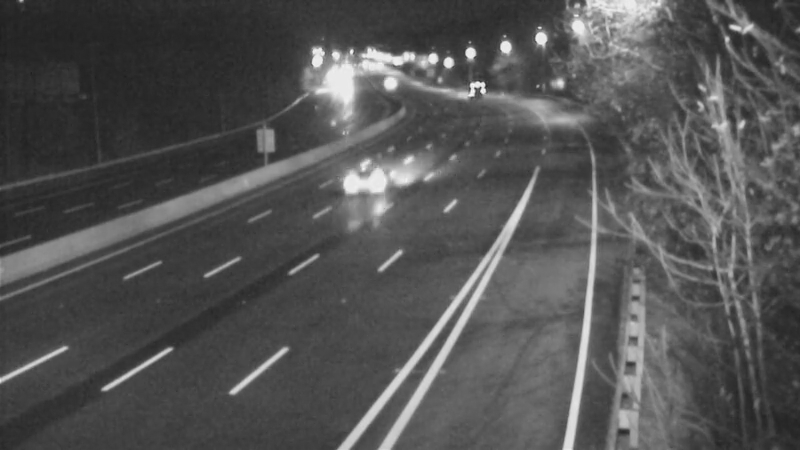vehicle: (325, 137, 405, 217), (364, 58, 414, 108), (447, 62, 497, 112)
